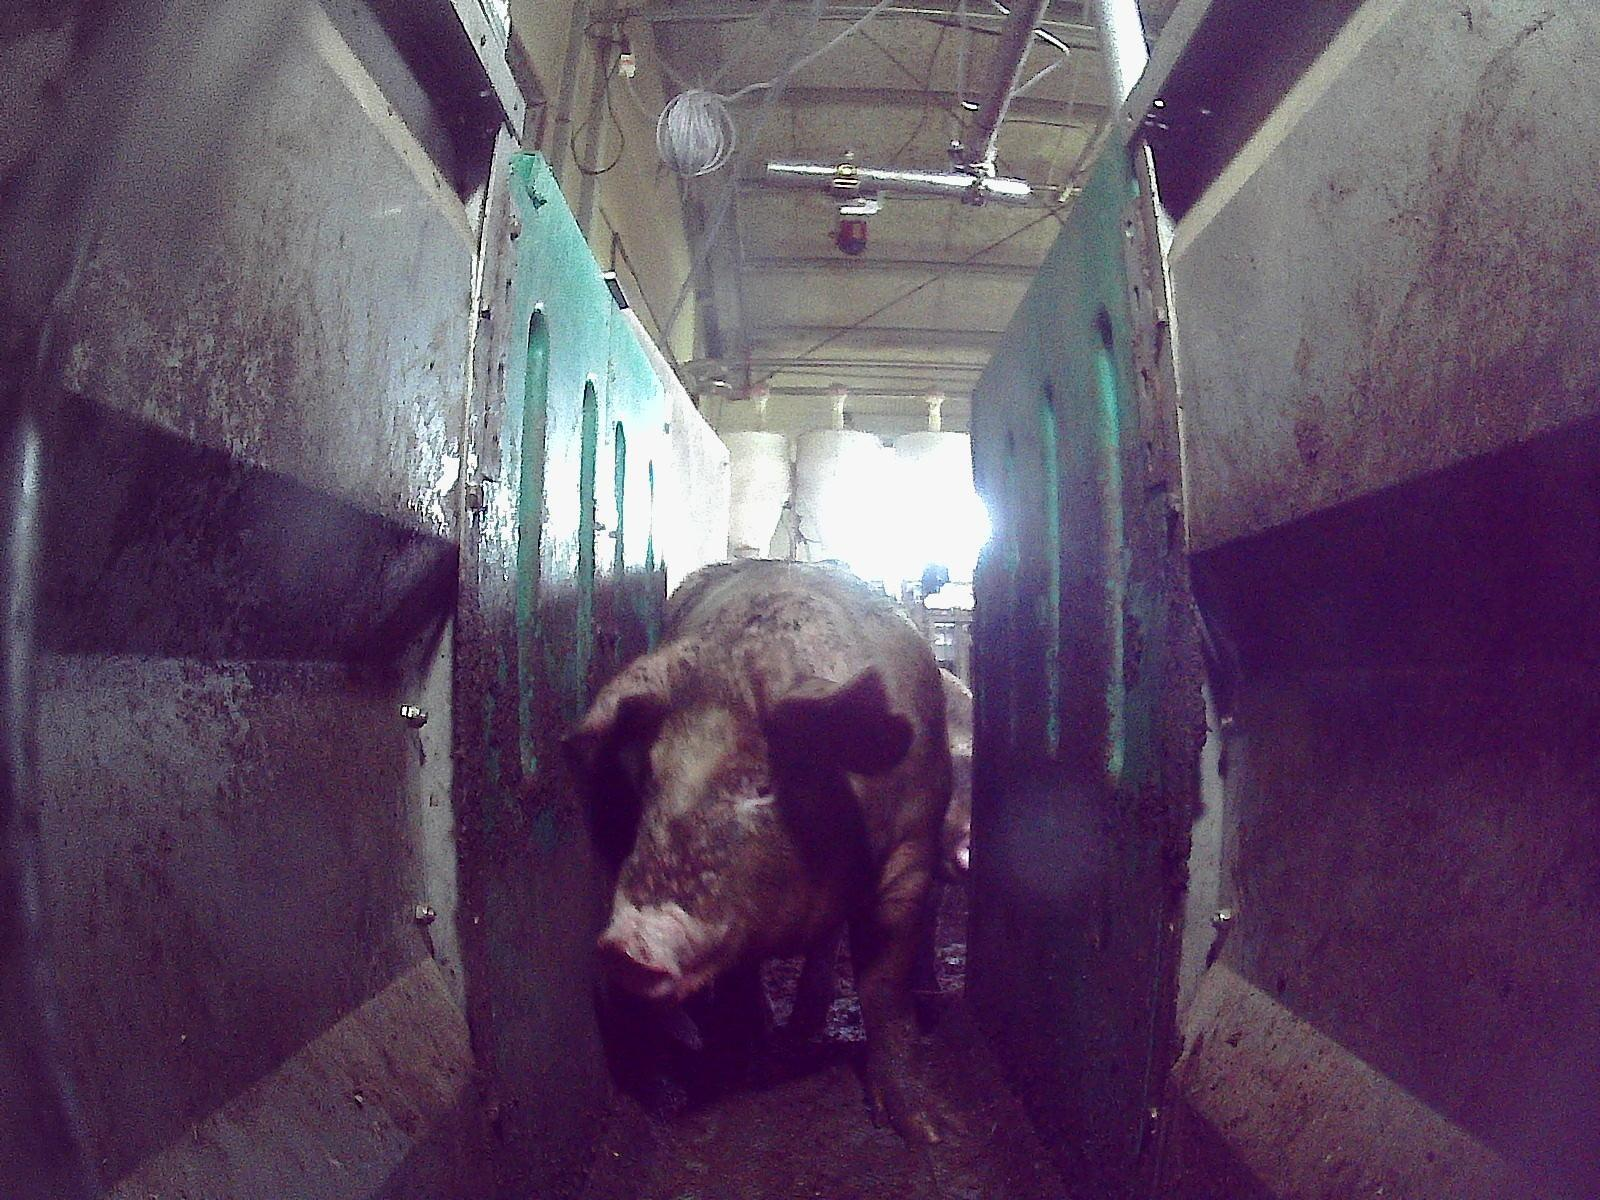Face: (600, 646, 854, 999)
